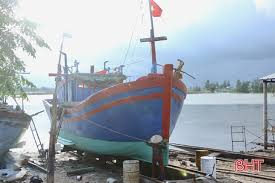tau_dansu: (36, 54, 179, 153)
